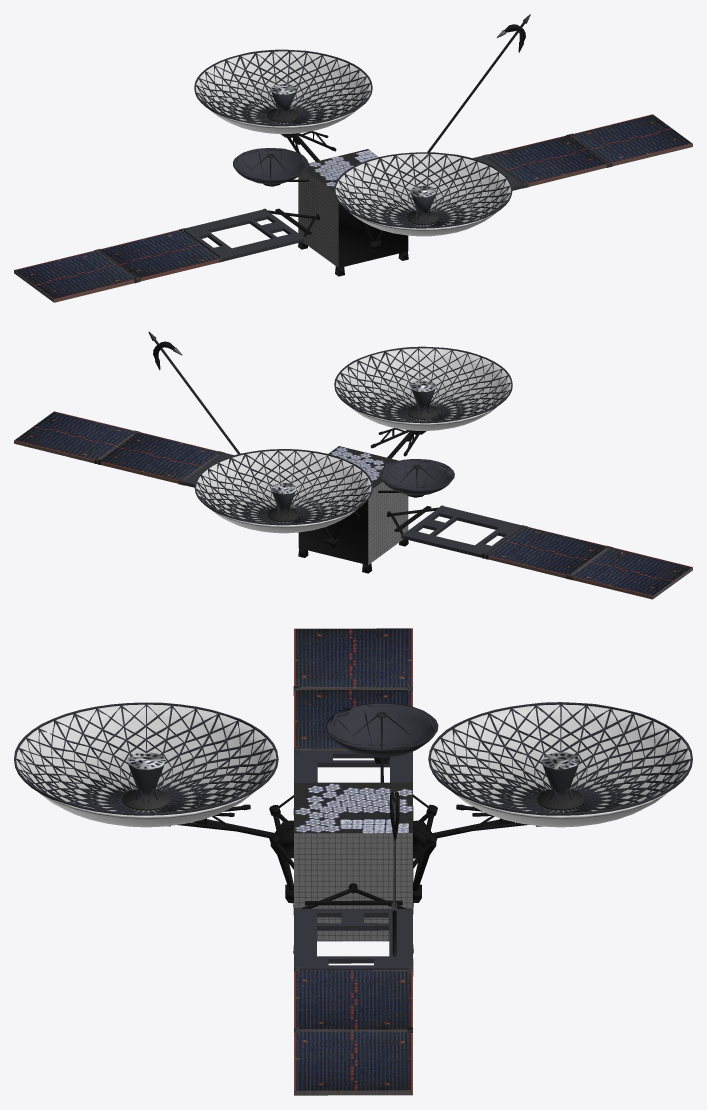
The model's file is tdrs.glb.
3 renders of one model, top to bottom at view 1: azimuth 30°, elevation 25°; view 2: azimuth 150°, elevation 25°; view 3: azimuth 270°, elevation 25°, orthographic. The views are drawn at different scales.
Visible parts, largest first — view 1: tex_01, tex_02, black_krinkle, foil_silver; view 2: tex_01, tex_02, black_krinkle, foil_silver; view 3: tex_01, tex_02, black_krinkle, foil_silver.
Part boxes in pixels (<box>): tex_01: <box>14,49,692,302</box>; tex_02: <box>195,51,510,236</box>; black_krinkle: <box>263,24,525,276</box>; foil_silver: <box>94,14,612,283</box>; tex_01: <box>14,346,692,599</box>; tex_02: <box>196,348,511,533</box>; black_krinkle: <box>153,341,439,573</box>; foil_silver: <box>94,331,612,580</box>; tex_01: <box>14,628,692,1095</box>; tex_02: <box>16,704,690,827</box>; black_krinkle: <box>167,757,541,953</box>; foil_silver: <box>122,686,584,1032</box>.
Size of the model in its own units: 21.12 by 5.76 by 13.11.
4 materials, 3 textured.
